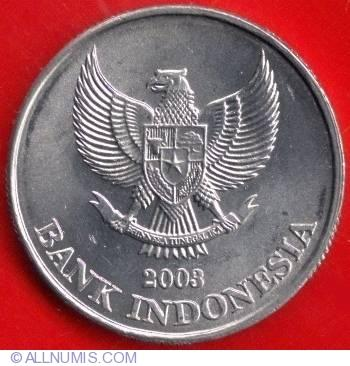coin_200_e2003: (9, 3, 344, 348)
